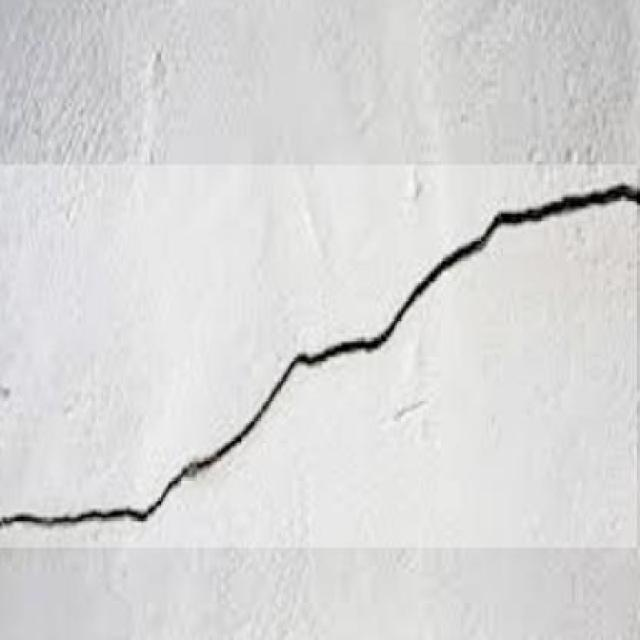Crack: (6, 166, 638, 538)
